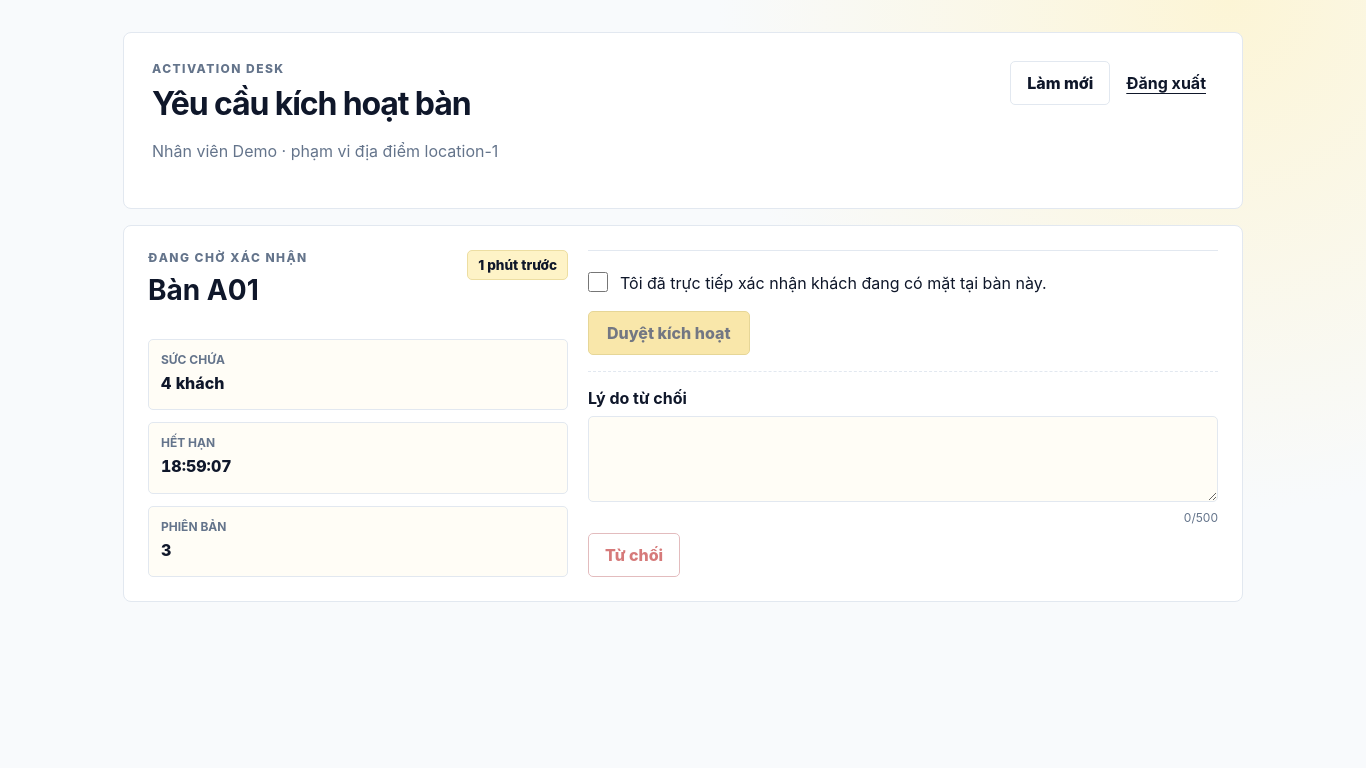
it: StaffActivationWorkspace › validates and submits a rejection reason with version and idempotency
Expected: the button "Từ chối" is disabled, [588, 533, 680, 577]
Type "Không có khách tại bàn" into the text box labelled "Lý do từ chối". click: (903, 459)
box: [588, 416, 1218, 502]
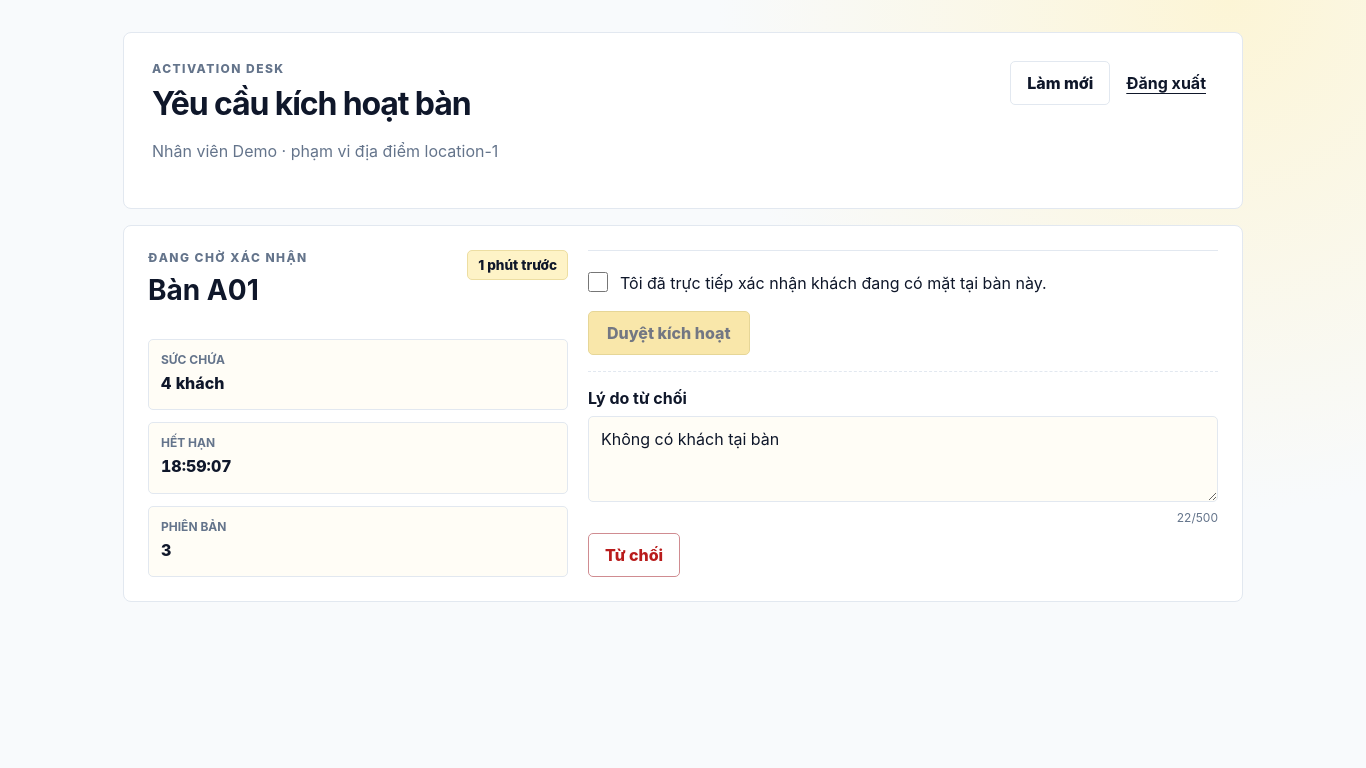
Click the button "Từ chối". click: click(634, 555)
box: [588, 533, 680, 577]
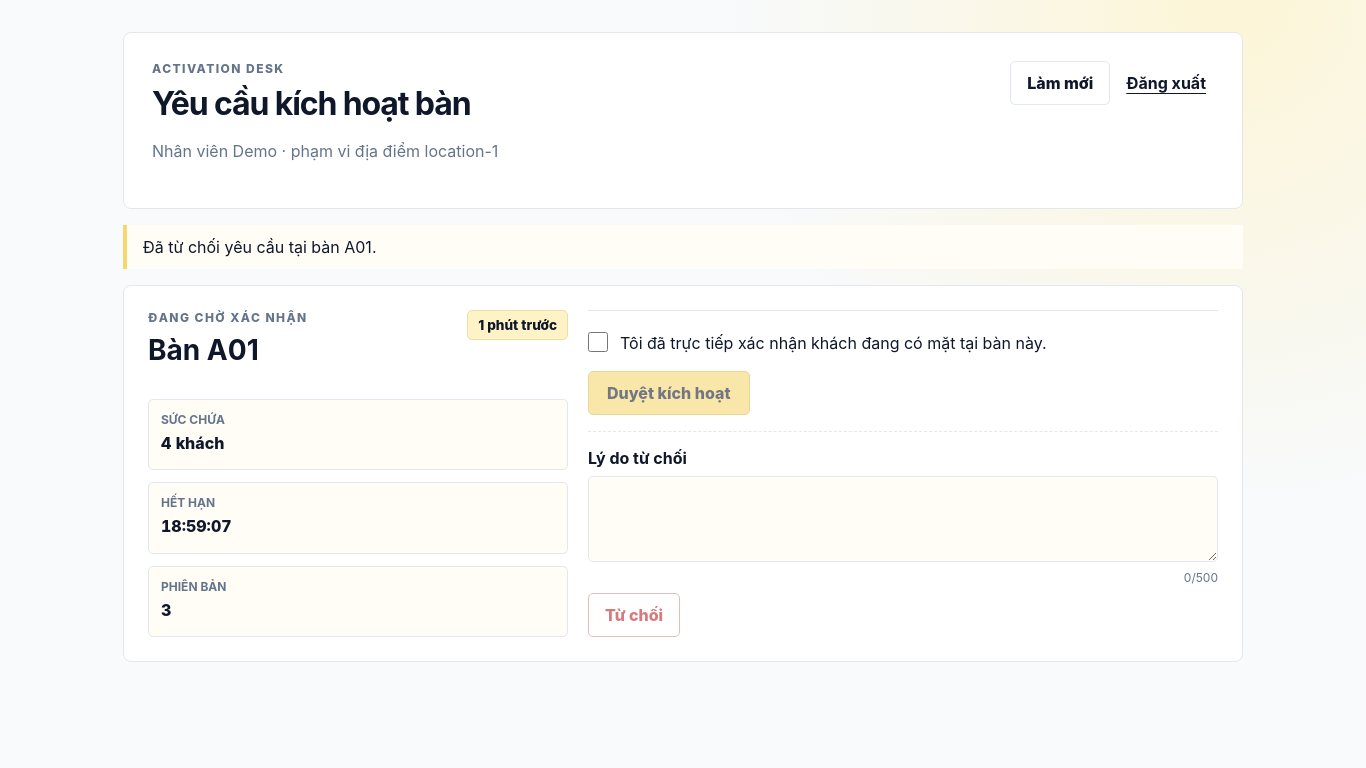
Expected: the text "Đã từ chối yêu cầu tại bàn A01." is shown, [123, 225, 1243, 269]
